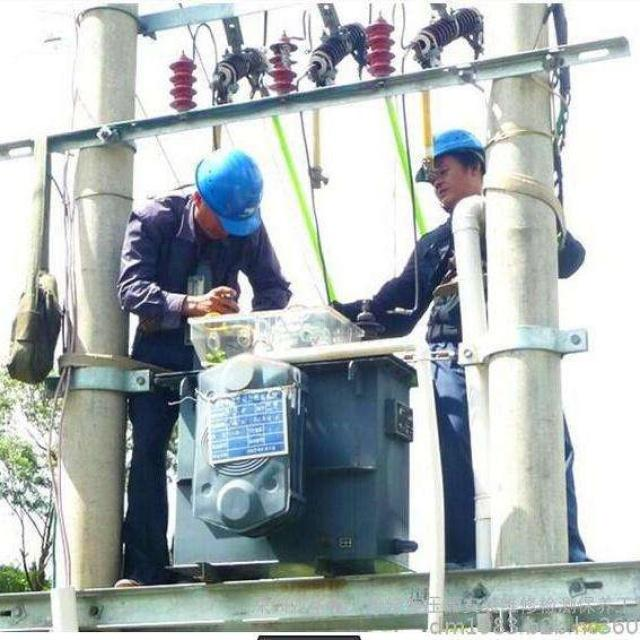helmet: (185, 193, 265, 324), (411, 173, 483, 280)
